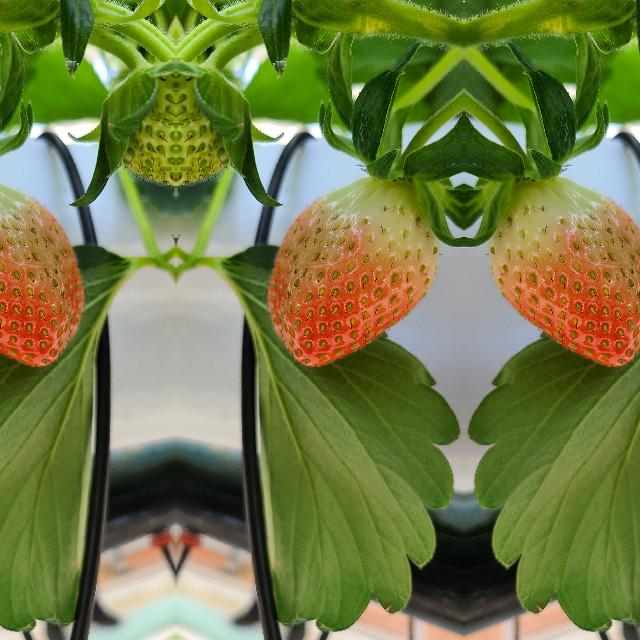Health_75: (264, 176, 442, 370), (484, 176, 640, 369), (0, 176, 85, 369)
